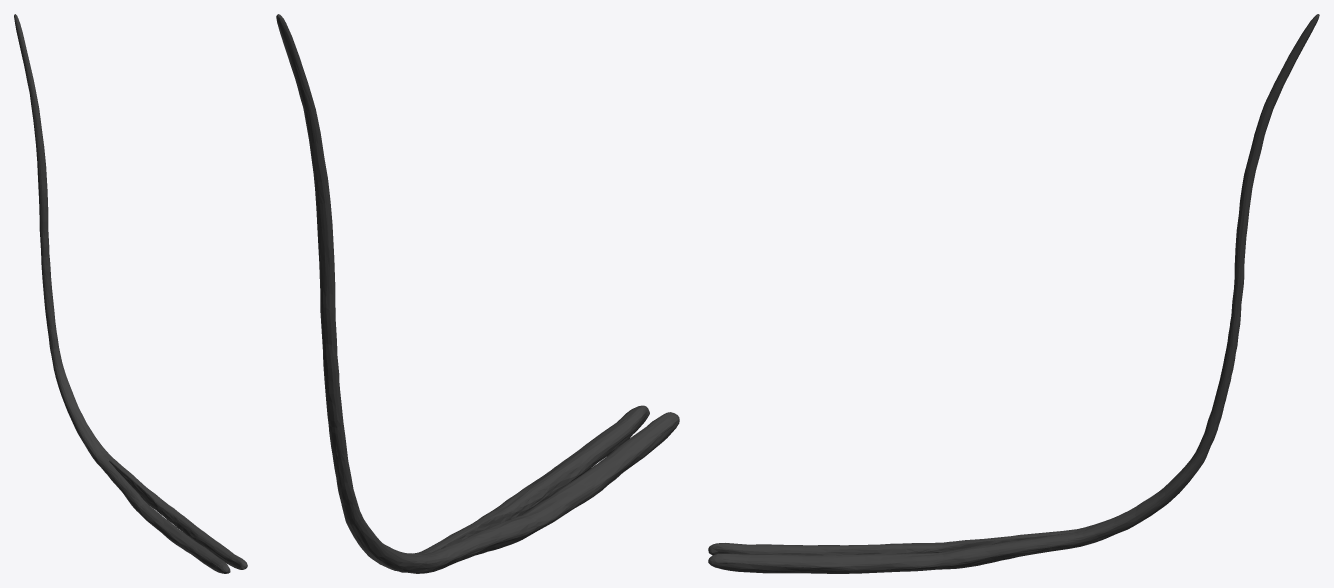
The model's file is m_sacrocadudalis_dorsalis_lat.glb.
3 views of the same model, side by side, from view 1: azimuth 30°, elevation 25°; view 2: azimuth 150°, elevation 25°; view 3: azimuth 270°, elevation 25° (orthographic). The views are drawn at different scales.
Visible parts, largest first — view 1: m_sacrocadudalis_dorsalis_lat; view 2: m_sacrocadudalis_dorsalis_lat; view 3: m_sacrocadudalis_dorsalis_lat.
Boxes of the visible parts, bbox=[...] form: m_sacrocadudalis_dorsalis_lat: bbox=[14, 14, 247, 573]; m_sacrocadudalis_dorsalis_lat: bbox=[276, 14, 679, 573]; m_sacrocadudalis_dorsalis_lat: bbox=[708, 14, 1319, 573].
Bounding box in the file's own units: 0.000879 × 0.0112 × 0.0112.
1 material, 1 textured.
